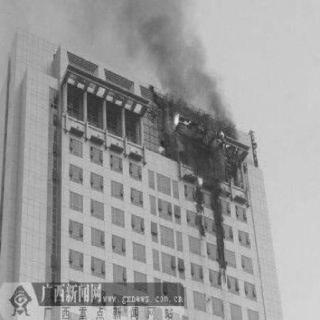Smoke: (211, 88, 229, 130)
